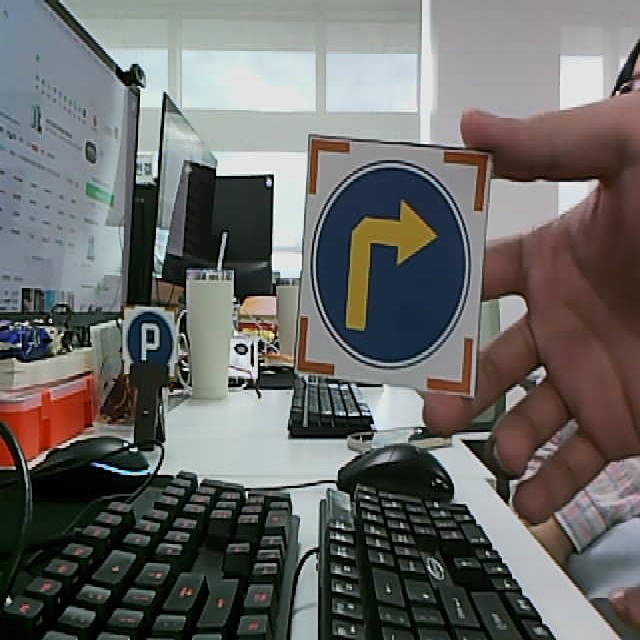right: (292, 133, 492, 398)
